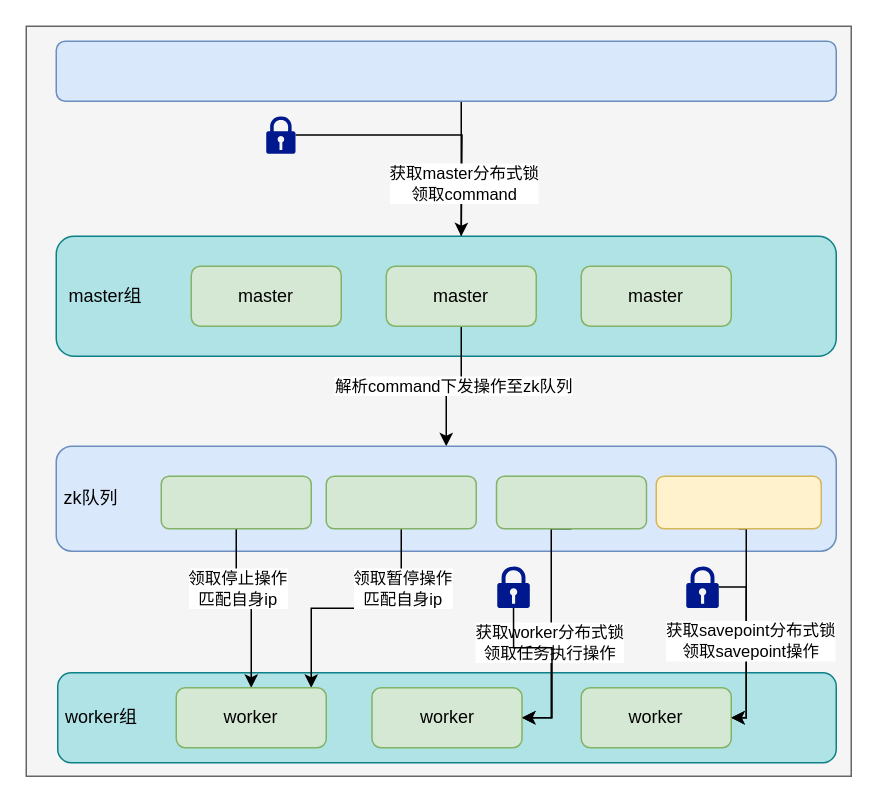
Some shapes in this 878 by 803 pixel diagram are drawn without their labels. The centre of each missing label's shape, as x and y in pixels:
"mysql队列（command）" goes at point 445,70.
"save_point_queque (废弃)" goes at point 738,502.
"tasks_kill" goes at point 235,502.
"tasks_pause" goes at point 400,502.
"tasks_queue" goes at point 570,502.
